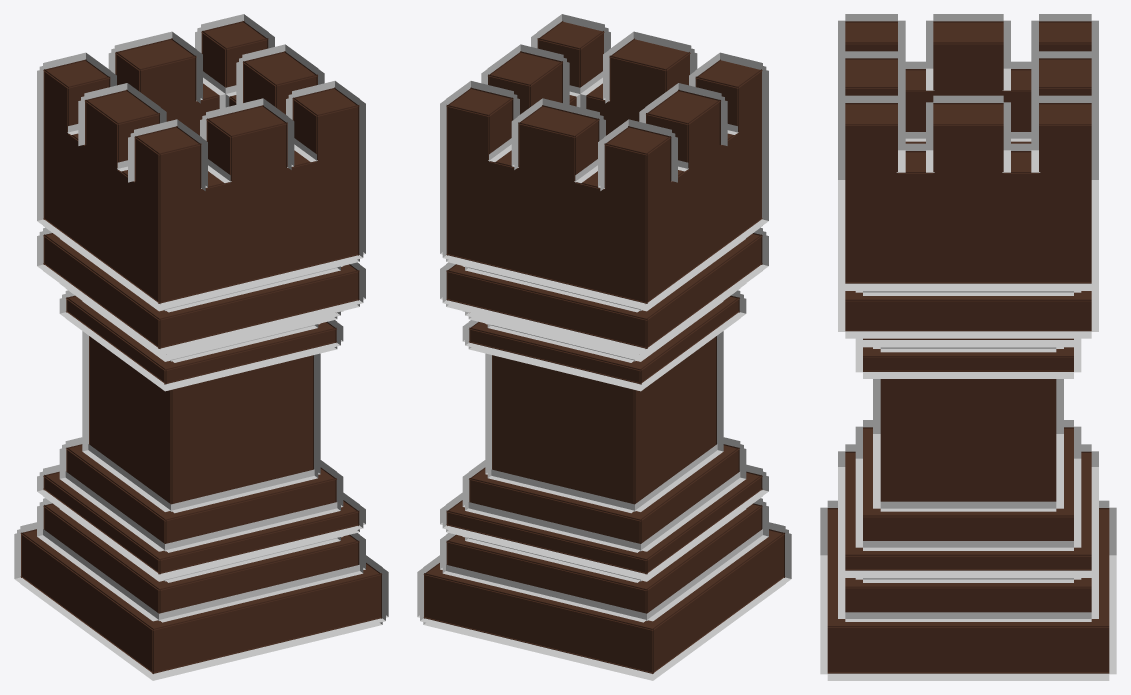
File: brown-rook.glb
3 renders of one model, left to right at view 1: azimuth 30°, elevation 25°; view 2: azimuth 150°, elevation 25°; view 3: azimuth 270°, elevation 25°, orthographic. The views are drawn at different scales.
Parts seen in each view (by area): view 1: chess-rock-brown_model; view 2: chess-rock-brown_model; view 3: chess-rock-brown_model.
Part boxes in pixels (x1,y1,x2,y2): chess-rock-brown_model: (14,14,388,680); chess-rock-brown_model: (417,14,791,680); chess-rock-brown_model: (820,14,1116,680).
Size of the model in its own units: 1.68 by 3.48 by 1.68.
Materials: 2 (1 with a texture image).
